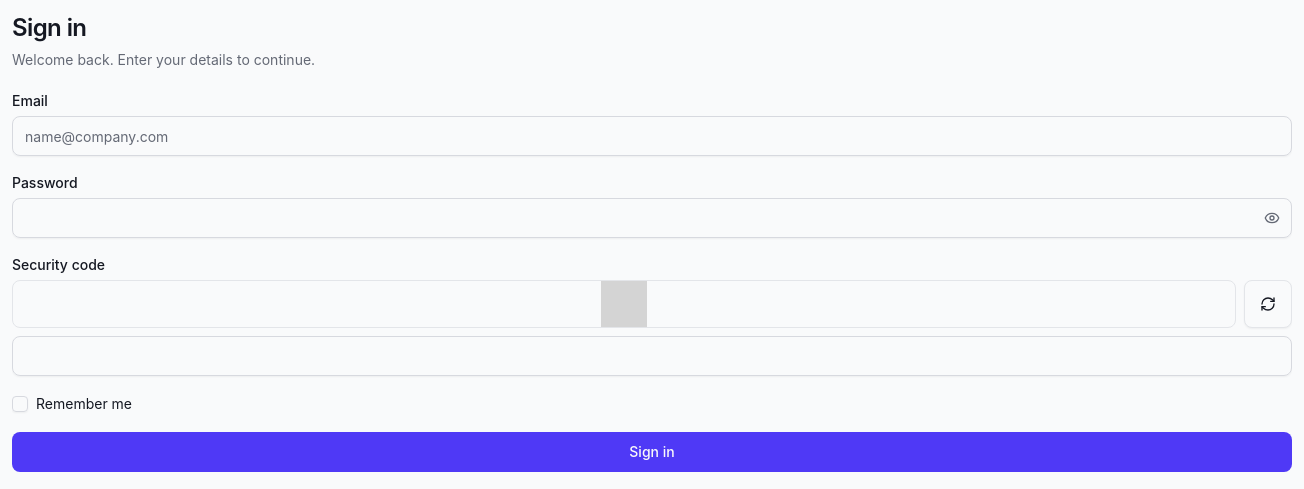
Scenario: SignInForm › shows a different captcha on request and clears the old answer
Type "HARD" into the field labelled "Security code" at (652, 356), box [12,336,1292,376]
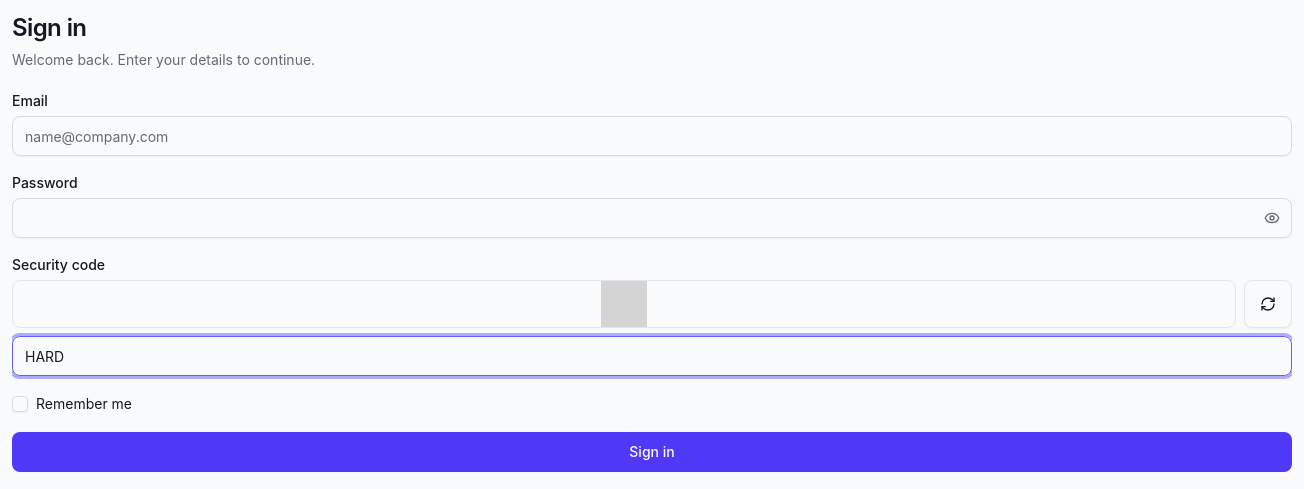
Click the button named "Show a new picture" at (1268, 304), box [1244,280,1292,328]
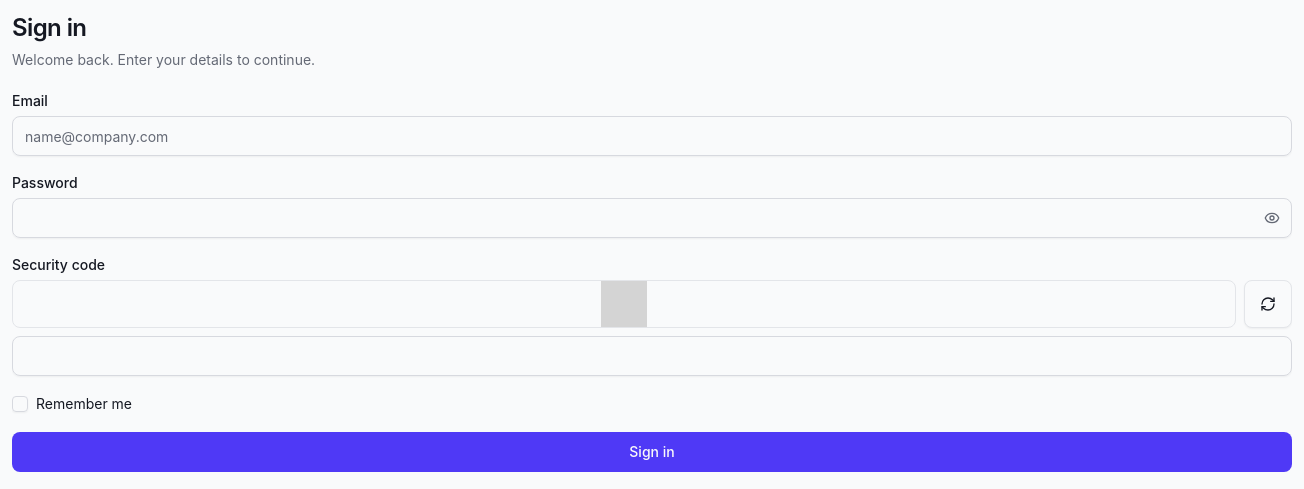
Result: the field labelled "Security code" is empty at [12,336,1292,376]
